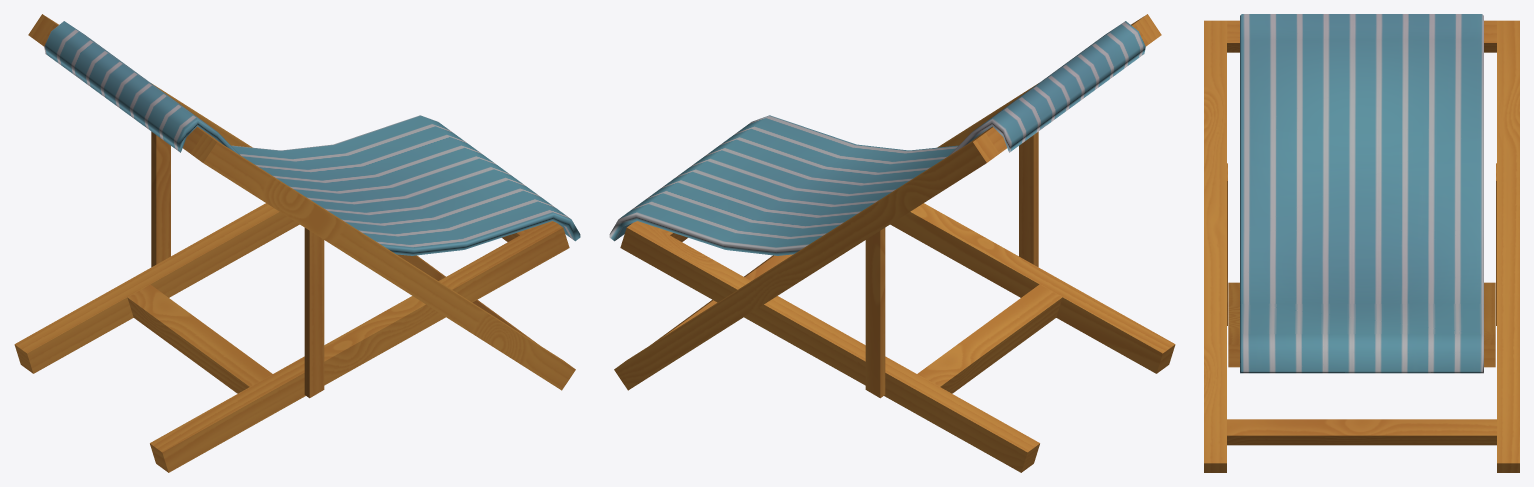
Rendered from sunchair.fbx.
3 renders of one model, left to right at view 1: azimuth 30°, elevation 25°; view 2: azimuth 150°, elevation 25°; view 3: azimuth 270°, elevation 25°, orthographic. The views are drawn at different scales.
Parts seen in each view (by area): view 1: sunchair; view 2: sunchair; view 3: sunchair.
Boxes of the visible parts, x1=… form: sunchair: x1=14, y1=14, x2=580, y2=472; sunchair: x1=609, y1=14, x2=1175, y2=472; sunchair: x1=1204, y1=14, x2=1519, y2=472.
Bounding box in the file's own units: 0.9079 × 0.6952 × 0.6469.
